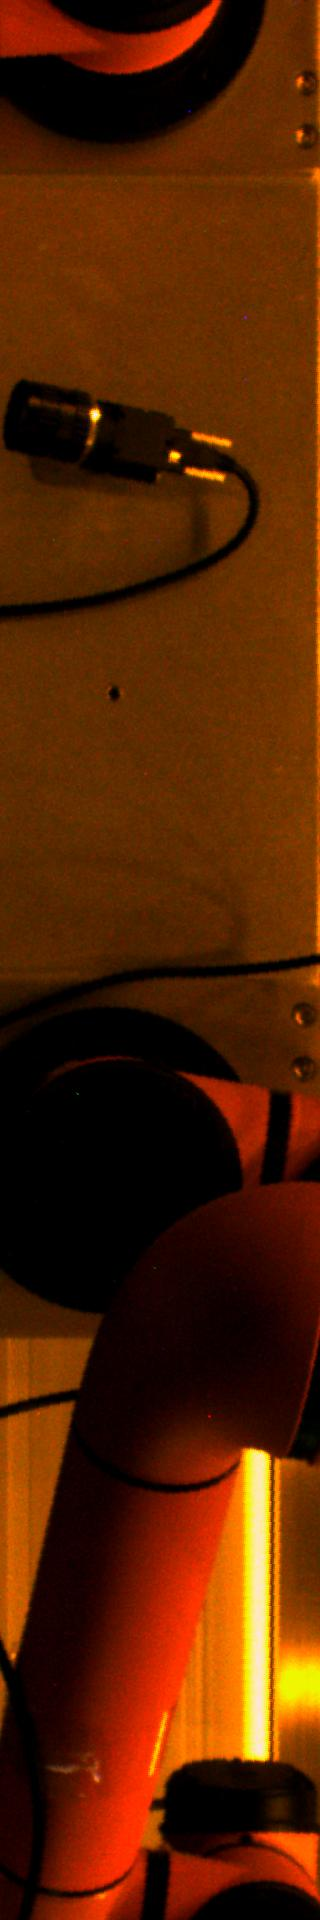keyPoint_2: (98, 680, 128, 709)
